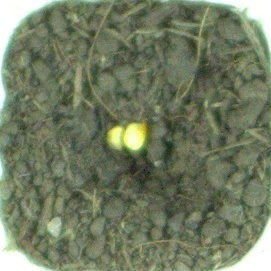chilli seed: (122, 121, 148, 151), (104, 124, 128, 151)
